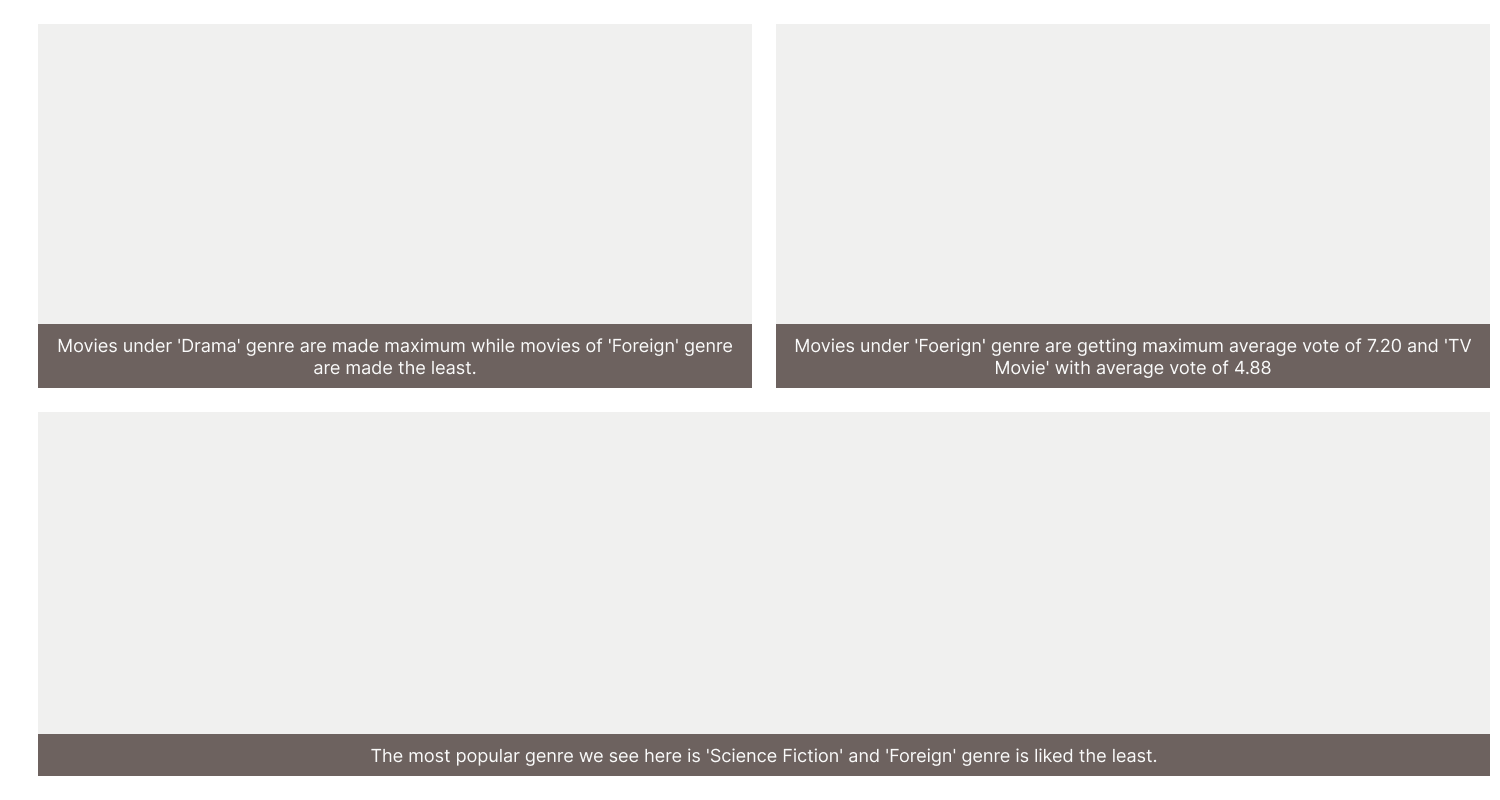

This screenshot's page, from the dashboard's own definition file:
{"tool":"tableau","page":{"name":"Dashboard 2","canvas":[1000,1000],"units":"permille","ordinal":1},"visuals":[{"type":"image","param":"Image/Figma2.png","box":[5.3,0,991.3,1000]},{"type":"worksheet","title":"Count of Movies","mark":"Automatic","rows":["genres - Split 1"],"cols":["genres - Split 1"],"box":[30.7,27.5,470.7,372.5]},{"type":"worksheet","title":"VoteAvgGenres","mark":"Automatic","rows":["vote_average"],"cols":["genres - Split 1"],"box":[519.3,30,466.7,368.8]},{"type":"worksheet","title":"PopularGenre","mark":"Automatic","rows":["popularity"],"cols":["genres - Split 1"],"box":[32,512.5,956,393.8]}]}

Visuals, with their boxes on the dashboard's canvas, which has no fixed pixel size, in thousandths of its width and height (x1, y1, x2, y2). These are canvas units, not pixel positions in the 1500x800 screenshot, which may show the page scaled, cropped or inside an application window:
image: BBox(5, 0, 997, 1000)
"Count of Movies" worksheet: BBox(31, 28, 501, 400)
"VoteAvgGenres" worksheet: BBox(519, 30, 986, 399)
"PopularGenre" worksheet: BBox(32, 512, 988, 906)
